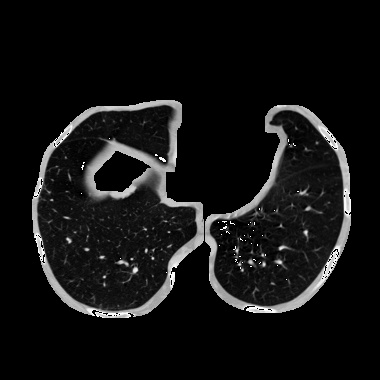PN: (115, 183, 129, 197)
